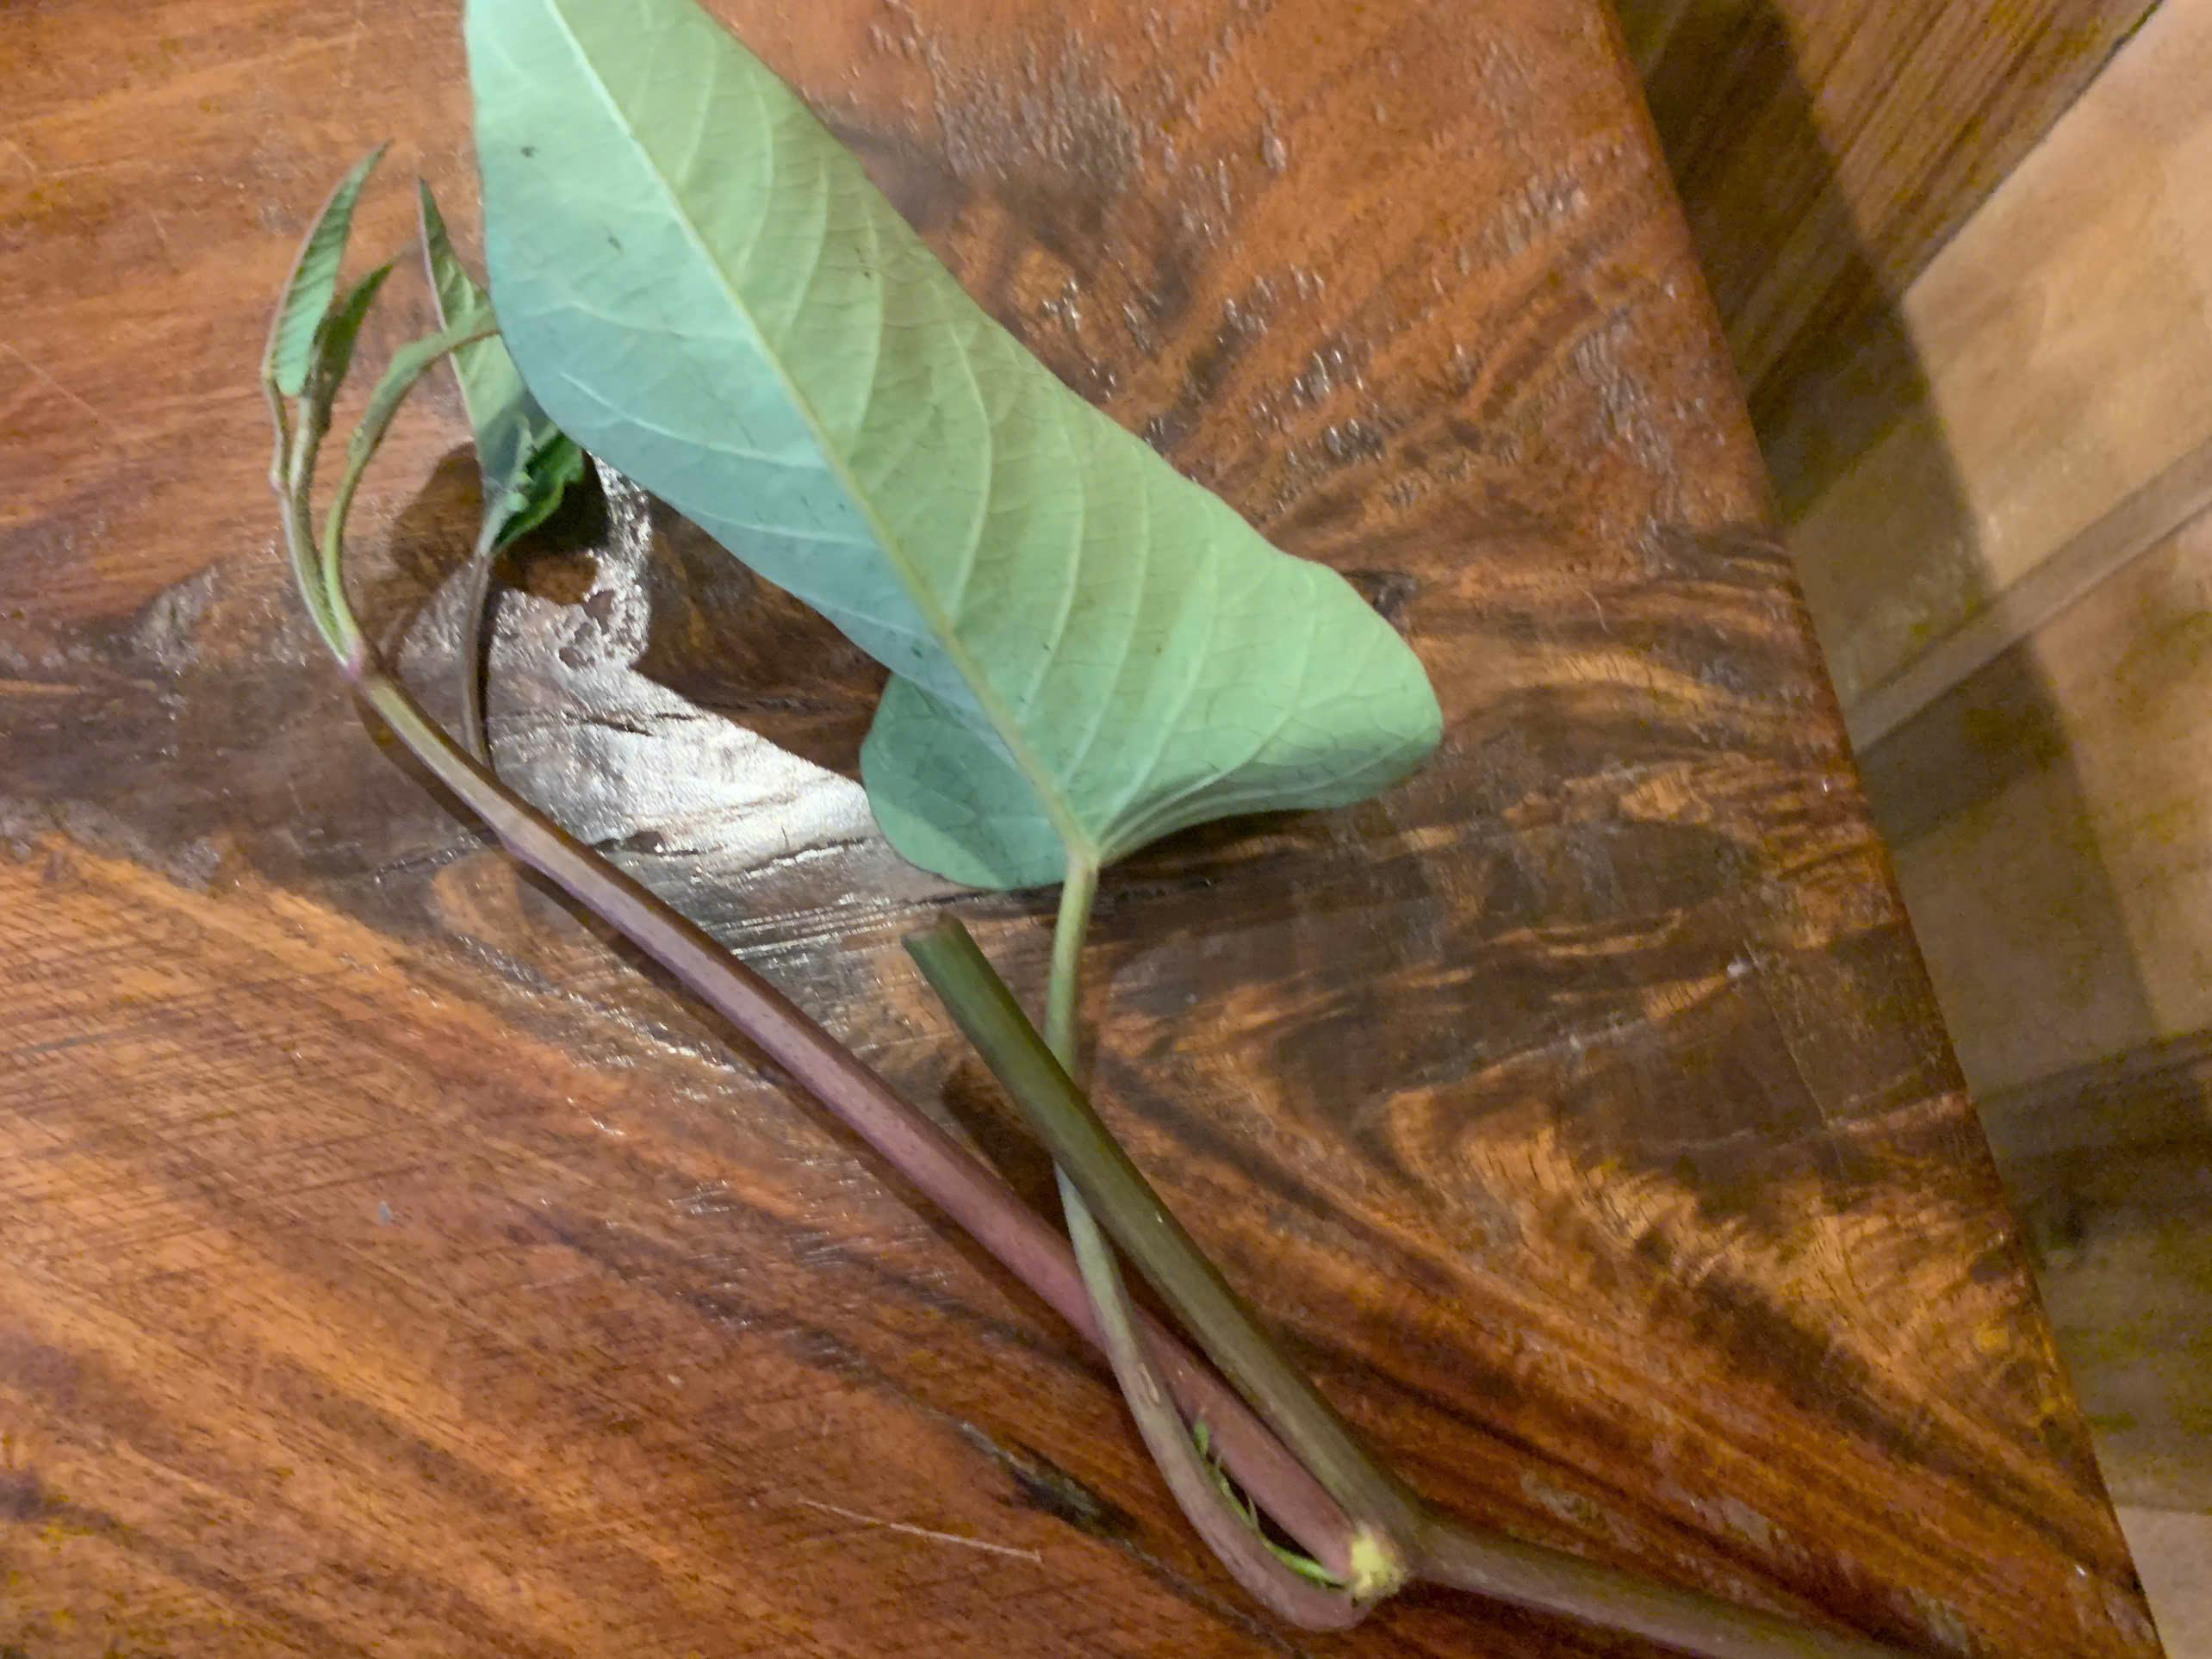Huu co: (270, 9, 1453, 1260)
